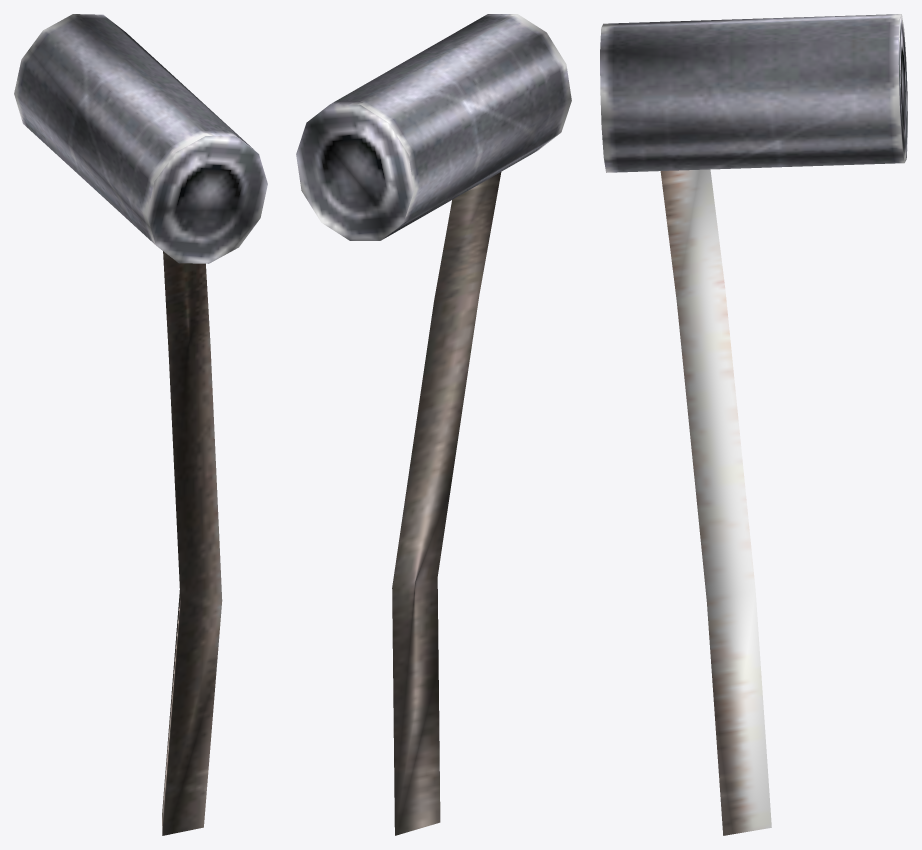
Rendered from Robot01.LeftKnee4.fbx.
3 views of the same model, side by side, from view 1: azimuth 30°, elevation 25°; view 2: azimuth 150°, elevation 25°; view 3: azimuth 270°, elevation 25° (orthographic). The views are drawn at different scales.
Parts seen in each view (by area): view 1: mesh_1209; view 2: mesh_1209; view 3: mesh_1209.
Part boxes in pixels (box(x1,y1,x2,y2)): mesh_1209: box(14, 14, 267, 835); mesh_1209: box(296, 14, 571, 835); mesh_1209: box(600, 14, 907, 835).
Bounding box in the file's own units: 9.71 × 55.29 × 19.39.
